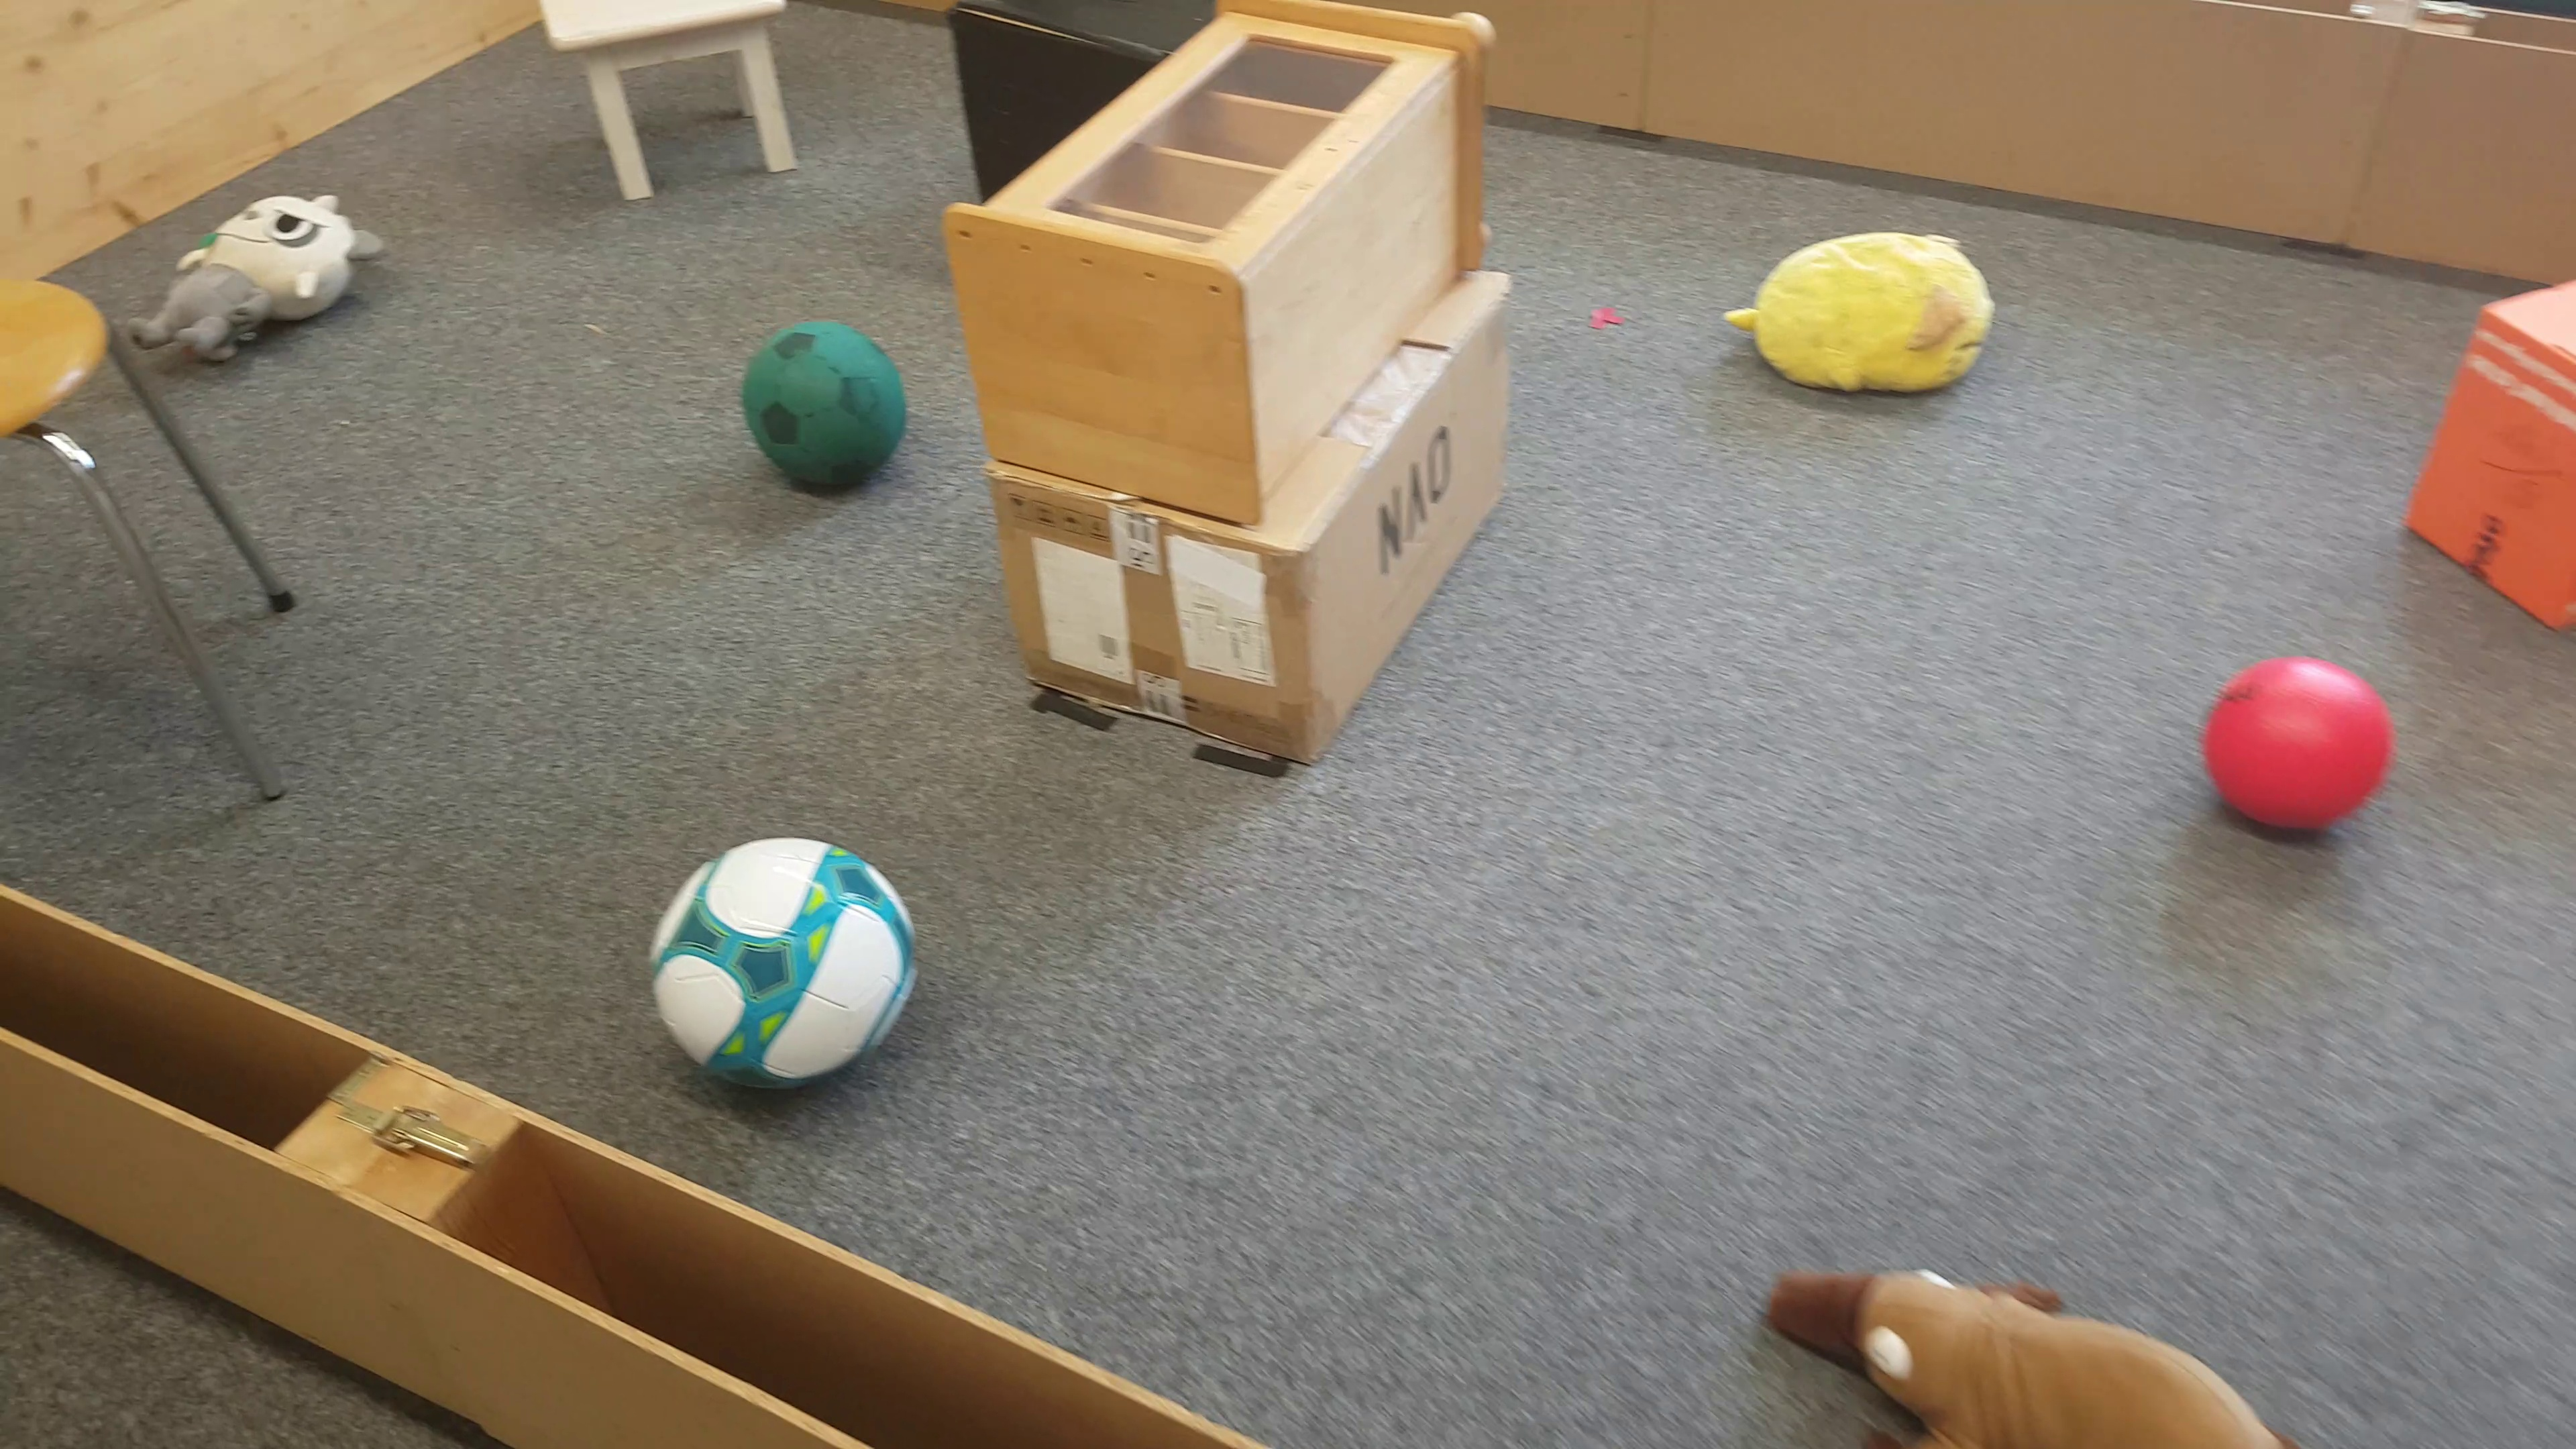grasp: (1759, 1260, 2302, 1449), (1727, 225, 1992, 409), (138, 184, 384, 372)
kick: (648, 835, 922, 1095), (2204, 655, 2394, 835), (745, 324, 909, 510)
push: (2410, 272, 2576, 639), (948, 0, 1131, 99)
